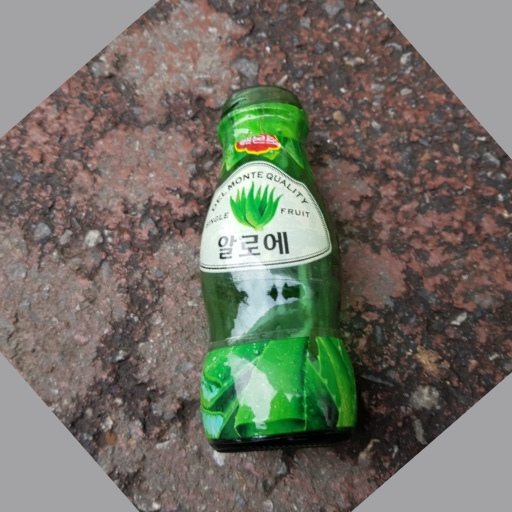Glass_4: (194, 82, 362, 460)
